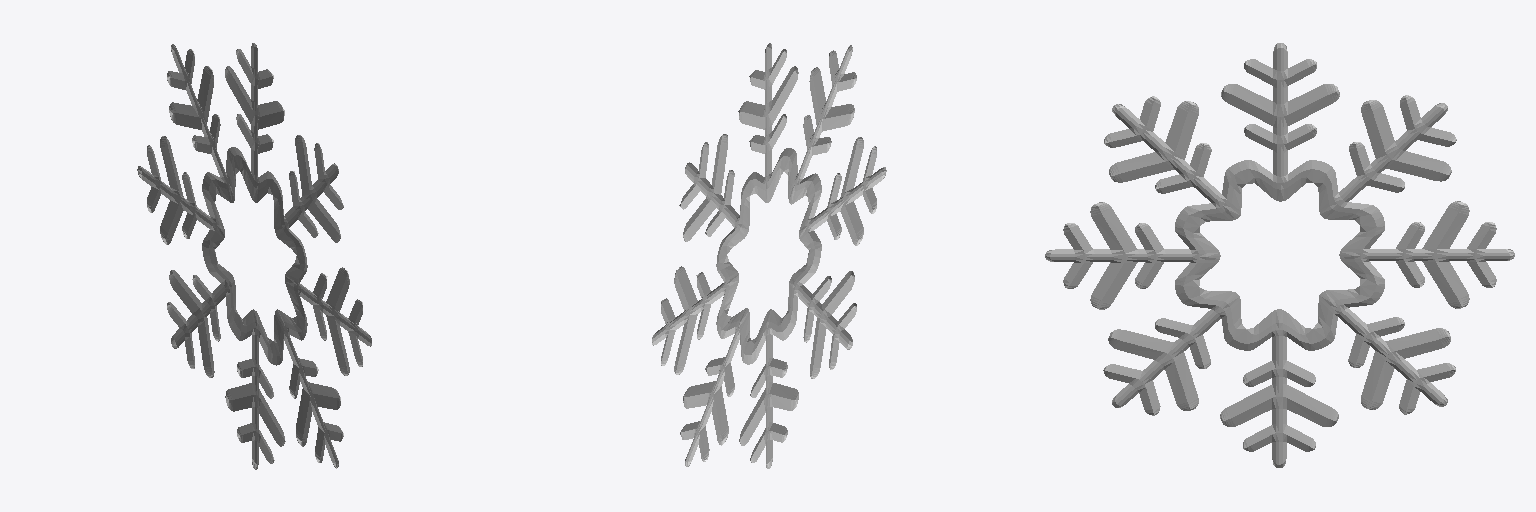
File: Snowflake2.obj
3 views of the same model, side by side, from view 1: azimuth 30°, elevation 25°; view 2: azimuth 150°, elevation 25°; view 3: azimuth 270°, elevation 25° (orthographic).
Visible parts, largest first — view 1: Plane.007_Plane.003; view 2: Plane.007_Plane.003; view 3: Plane.007_Plane.003.
Boxes of the visible parts, x1=… form: Plane.007_Plane.003: x1=137, y1=43, x2=371, y2=469; Plane.007_Plane.003: x1=652, y1=43, x2=886, y2=468; Plane.007_Plane.003: x1=1045, y1=43, x2=1514, y2=467.
Bounding box in the file's own units: 0.0034 × 0.6293 × 0.6294.